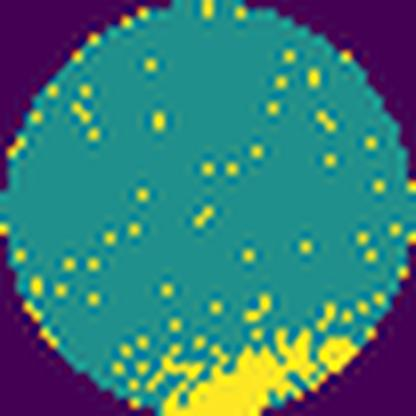Edge-Loc: (155, 325, 368, 416)
